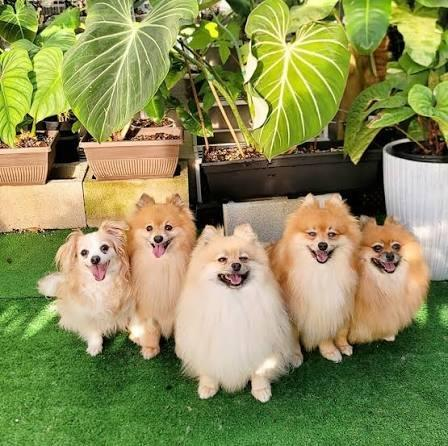adult_dog: (173, 224, 304, 403), (273, 193, 363, 363), (115, 193, 199, 360), (36, 219, 133, 359), (345, 214, 431, 354)
